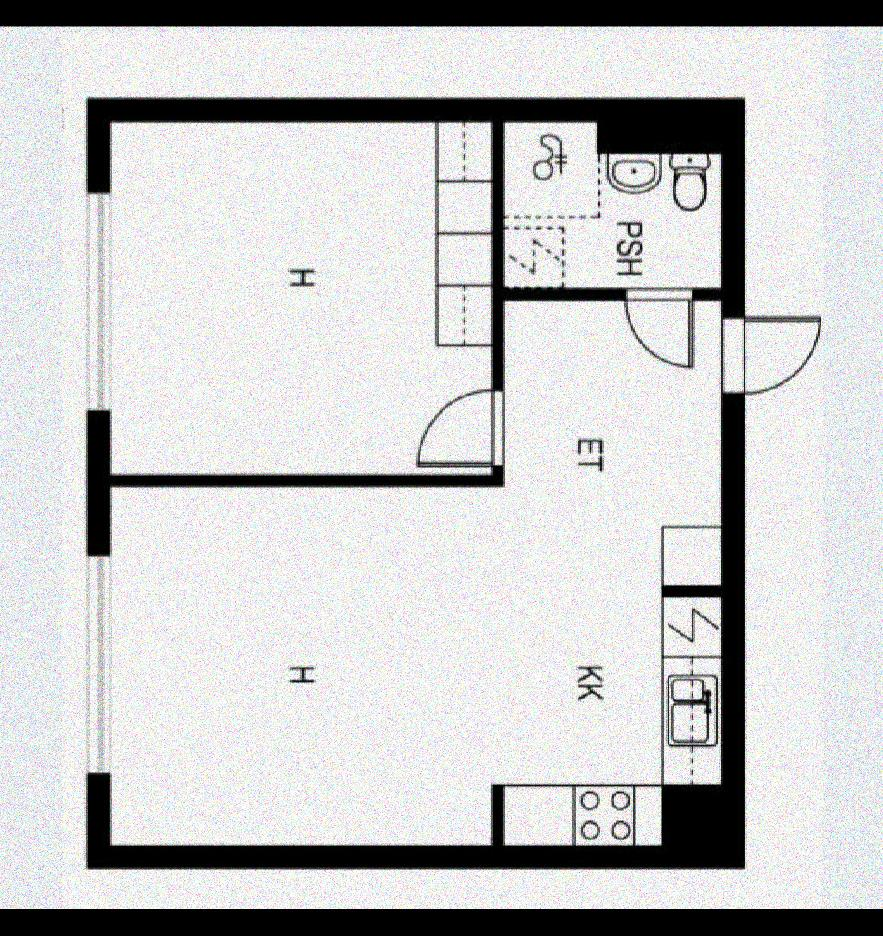door: (110, 304, 720, 850), (110, 118, 492, 474), (500, 118, 730, 290), (718, 304, 822, 394), (410, 386, 514, 474), (618, 280, 694, 380)
window: (84, 558, 111, 772), (90, 194, 112, 414)
